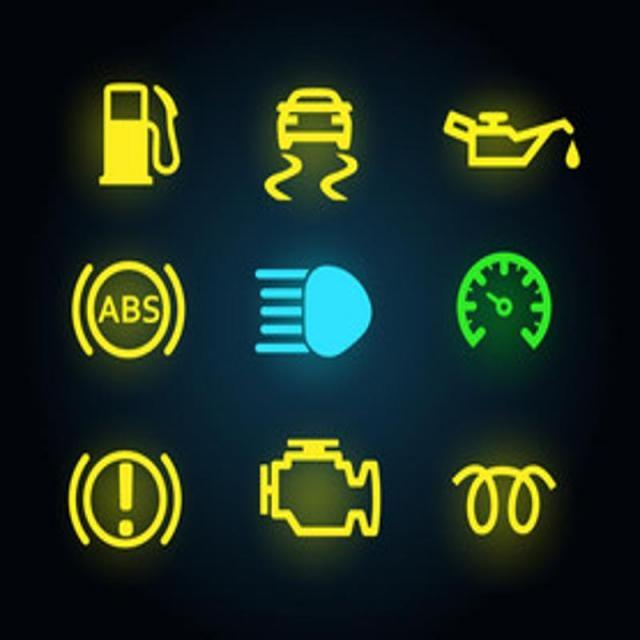EngineWarning: (258, 438, 380, 536)
HandBrakeWarning: (69, 450, 181, 545)
